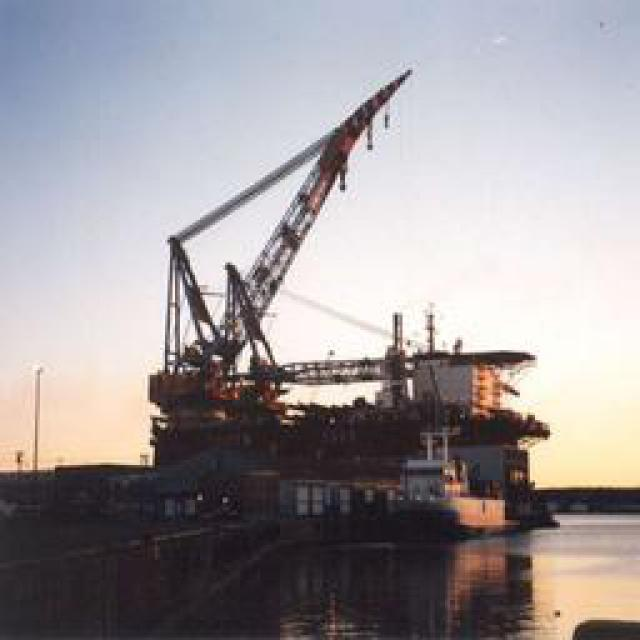Ship: (77, 51, 507, 541)
